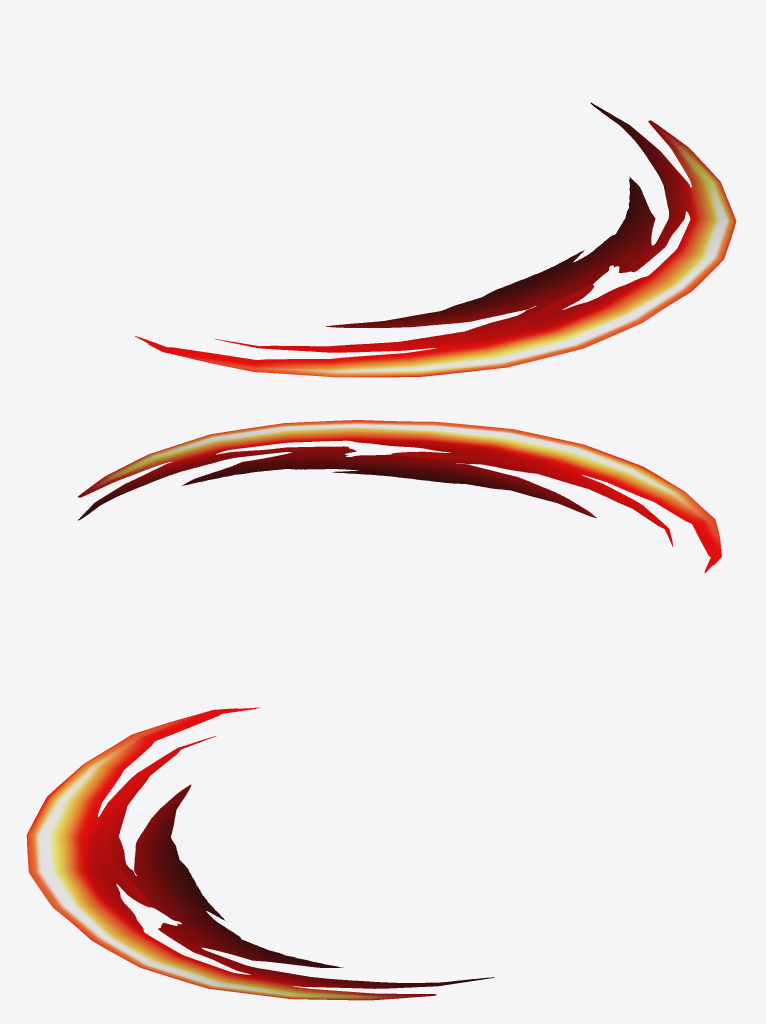
File: titan_attack_1.FBX
3 renders of one model, top to bottom at view 1: azimuth 30°, elevation 25°; view 2: azimuth 150°, elevation 25°; view 3: azimuth 270°, elevation 25°, orthographic. The views are drawn at different scales.
Visible parts, largest first — view 1: titan_attack_1; view 2: titan_attack_1; view 3: titan_attack_1.
Boxes of the visible parts, box(x1,y1,x2,y2) form: titan_attack_1: box(135, 102, 736, 377); titan_attack_1: box(78, 420, 721, 572); titan_attack_1: box(26, 707, 494, 1000).
Bounding box in the file's own units: 8.72 × 0.5436 × 8.38.
